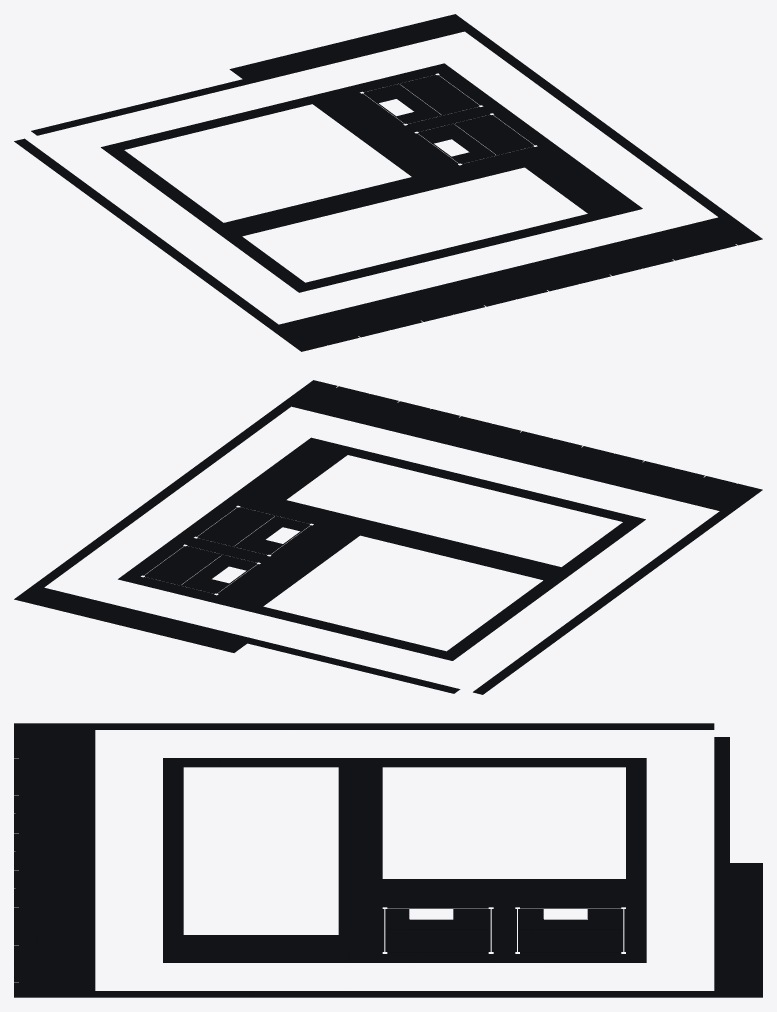
File: tt_leisure_deck.glb
3 views of the same model, one above another, from view 1: azimuth 30°, elevation 25°; view 2: azimuth 150°, elevation 25°; view 3: azimuth 270°, elevation 25° (orthographic). The views are drawn at different scales.
Parts seen in each view (by area): view 1: Deck_Terrazzo; view 2: Deck_Terrazzo; view 3: Deck_Terrazzo.
Part boxes in pixels (x1=…): Deck_Terrazzo: x1=14, y1=14, x2=762, y2=351; Deck_Terrazzo: x1=14, y1=380, x2=762, y2=694; Deck_Terrazzo: x1=14, y1=723, x2=762, y2=997.
Size of what is drawn, in the model's own units: 29.36 by 0.016 by 33.88.
1 material, 1 textured.
